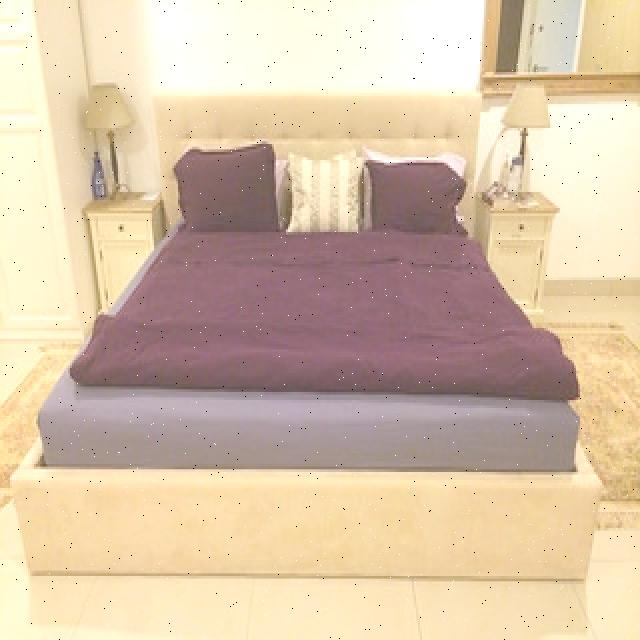bed: (62, 110, 583, 473)
